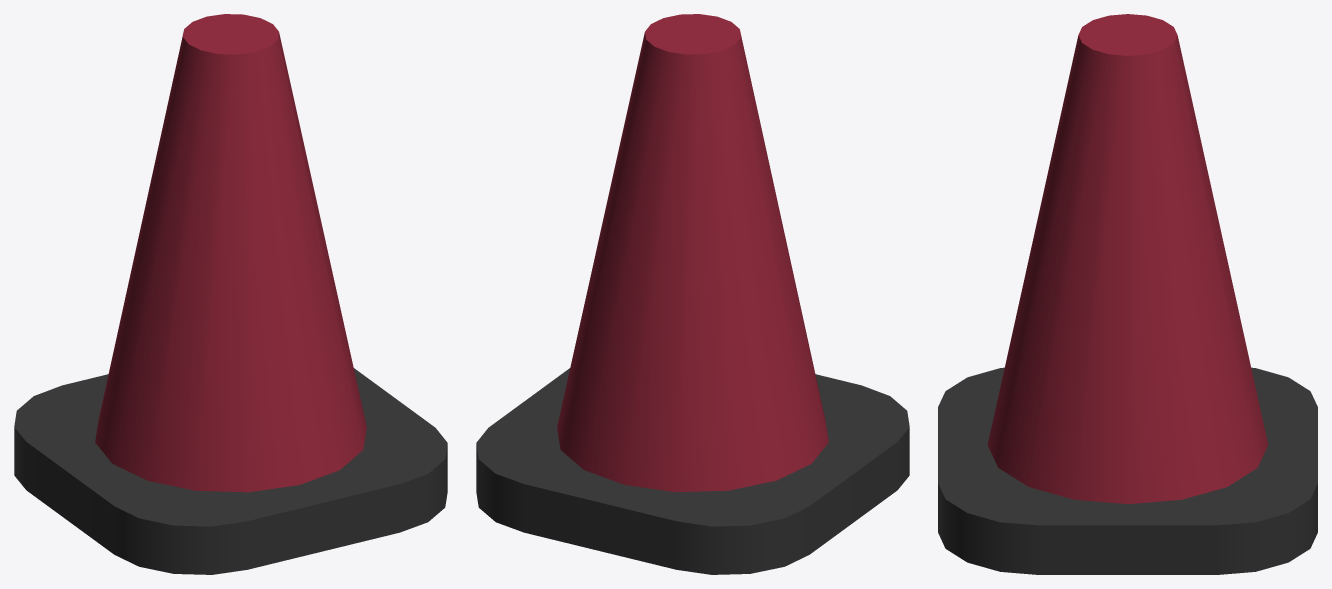
File: roadcone_03.fbx
3 renders of one model, left to right at view 1: azimuth 30°, elevation 25°; view 2: azimuth 150°, elevation 25°; view 3: azimuth 270°, elevation 25°, orthographic. The views are drawn at different scales.
Visible parts, largest first — view 1: roadcone_03; view 2: roadcone_03; view 3: roadcone_03.
Part boxes in pixels (x1,y1,x2,y2): roadcone_03: (14,14,447,574); roadcone_03: (476,14,909,574); roadcone_03: (938,14,1317,574).
Size of the model in its own units: 43.58 by 58.62 by 43.58.
